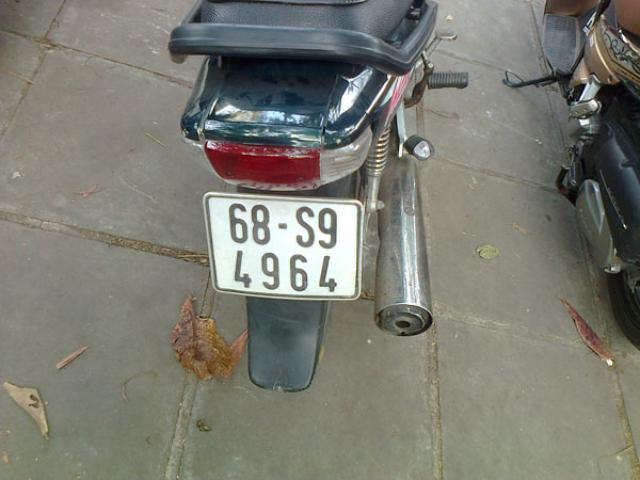plate: (208, 193, 364, 299)
